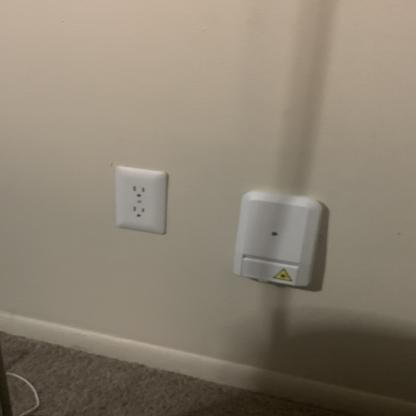OUTLET: (113, 166, 165, 234)
